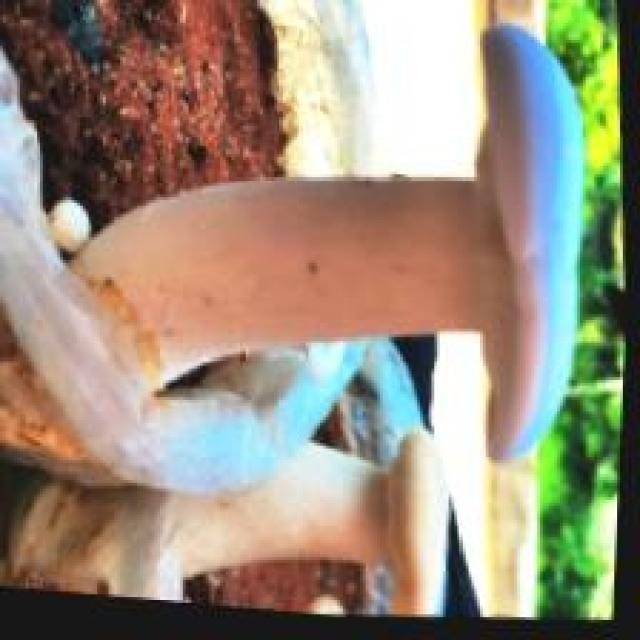chanterelle: (3, 0, 589, 611)
